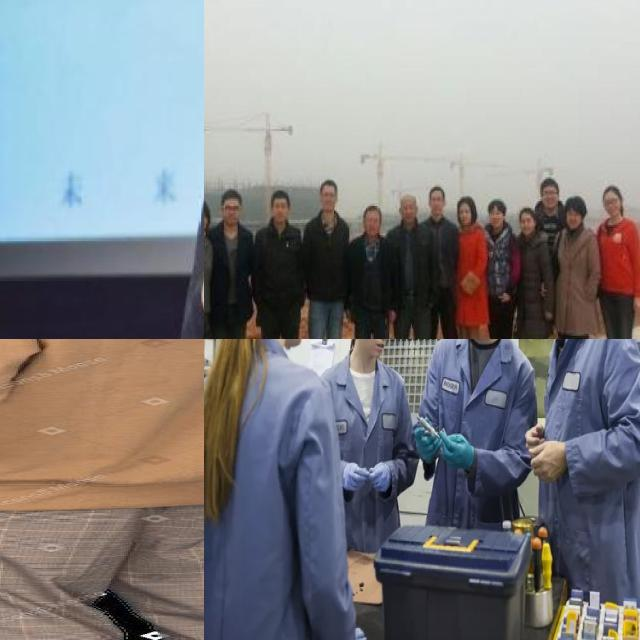face_nomask: (360, 339, 387, 362), (602, 195, 622, 217), (271, 199, 289, 221), (428, 193, 446, 214), (564, 209, 584, 226), (223, 203, 239, 224), (401, 203, 417, 224), (542, 188, 560, 206), (364, 214, 380, 234), (322, 190, 337, 211), (519, 215, 534, 234), (490, 209, 506, 225), (458, 206, 472, 222), (204, 212, 208, 230)
hand_glove: (439, 430, 474, 470), (414, 428, 442, 464), (342, 463, 370, 490), (369, 461, 390, 492)
hand_noglove: (526, 424, 567, 483), (631, 293, 640, 311)
head_nohelmet: (564, 197, 586, 214), (221, 188, 242, 205), (538, 176, 560, 192), (364, 202, 382, 218), (400, 193, 418, 209), (456, 194, 474, 210), (602, 184, 624, 197), (427, 183, 446, 198), (318, 178, 338, 191), (488, 198, 505, 212), (271, 190, 288, 202), (518, 206, 534, 218), (204, 197, 209, 213)
person: (0, 339, 204, 640), (161, 0, 204, 339), (301, 178, 353, 339), (206, 187, 260, 339), (252, 190, 307, 339), (592, 181, 640, 339), (415, 182, 462, 339), (388, 189, 437, 339), (345, 198, 396, 339), (550, 196, 599, 339), (448, 189, 491, 339), (508, 204, 553, 339), (482, 196, 519, 339)
